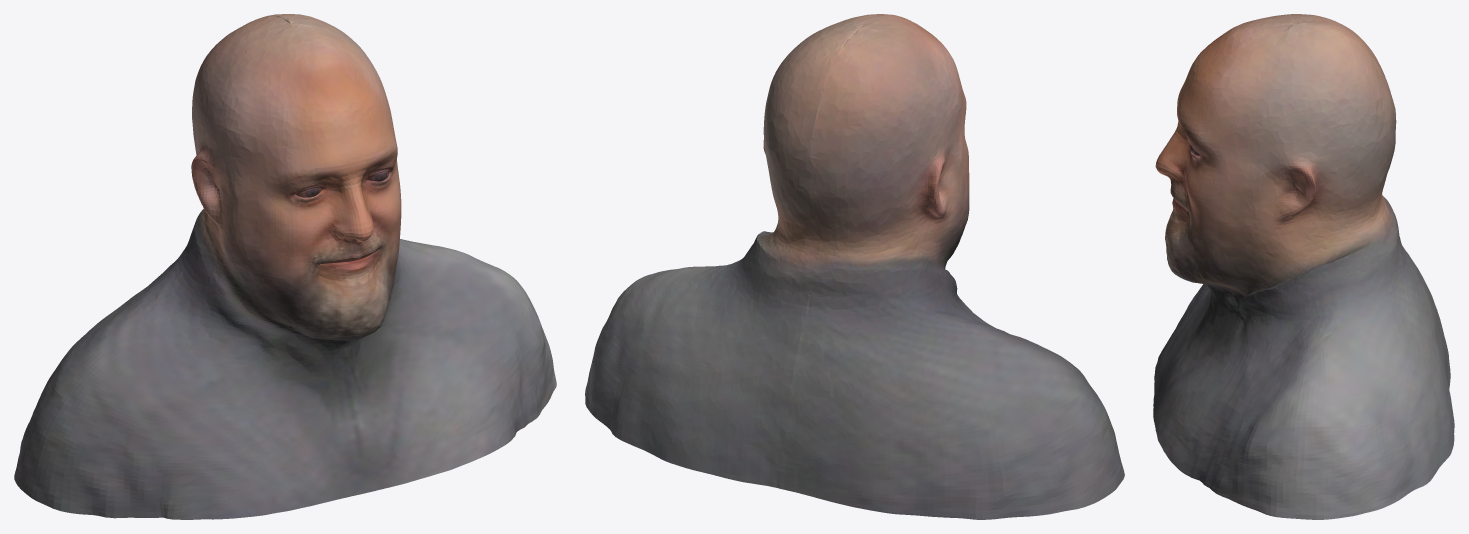
The model's file is david.glb.
3 views of the same model, side by side, from view 1: azimuth 30°, elevation 25°; view 2: azimuth 150°, elevation 25°; view 3: azimuth 270°, elevation 25° (orthographic). The views are drawn at different scales.
Parts seen in each view (by area): view 1: Node1; view 2: Node1; view 3: Node1.
Boxes of the visible parts, x1,y1,x2,y2 form: Node1: (14,14,556,519); Node1: (585,14,1124,519); Node1: (1153,14,1454,519).
Size of the model in its own units: 0.4949 by 0.3757 by 0.2695.
1 material, 1 textured.
